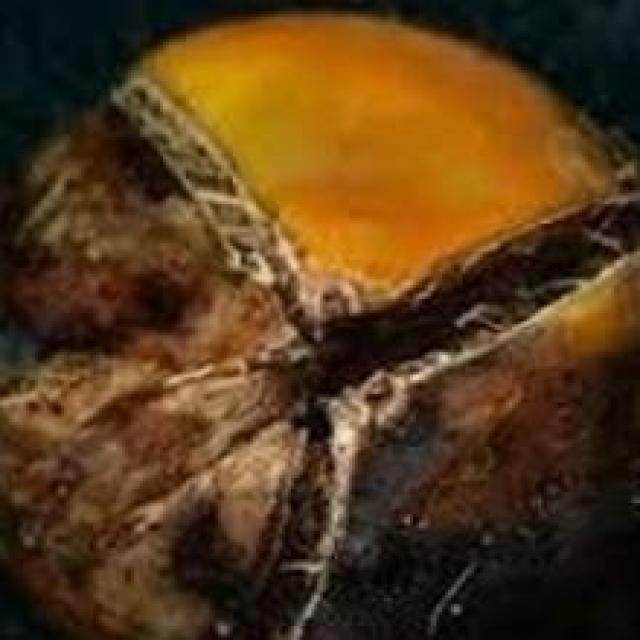damaged: (0, 11, 637, 637)
